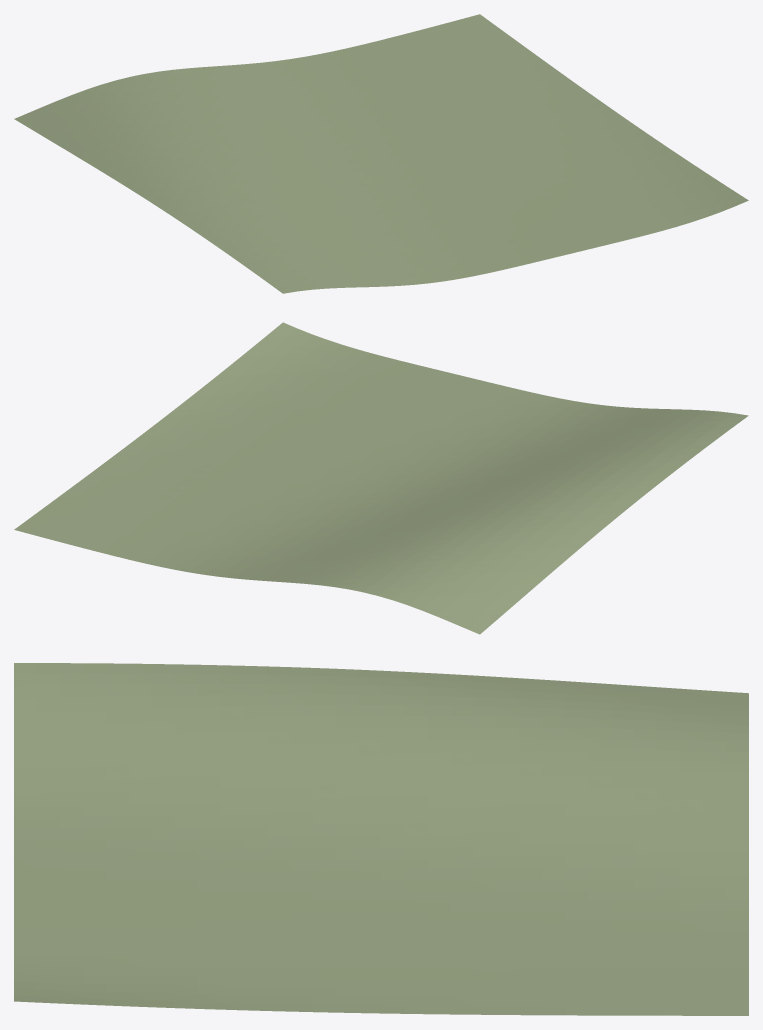
File: desert-8-3.glb
3 renders of one model, top to bottom at view 1: azimuth 30°, elevation 25°; view 2: azimuth 150°, elevation 25°; view 3: azimuth 270°, elevation 25°, orthographic. The views are drawn at different scales.
Parts seen in each view (by area): view 1: desert-8-3; view 2: desert-8-3; view 3: desert-8-3.
Part boxes in pixels (left/top/right/bottom): desert-8-3: left=14, top=14, right=748, bottom=293; desert-8-3: left=14, top=322, right=748, bottom=634; desert-8-3: left=14, top=663, right=748, bottom=1015.
Bounding box in the file's own units: 512 × 34.45 × 512.
